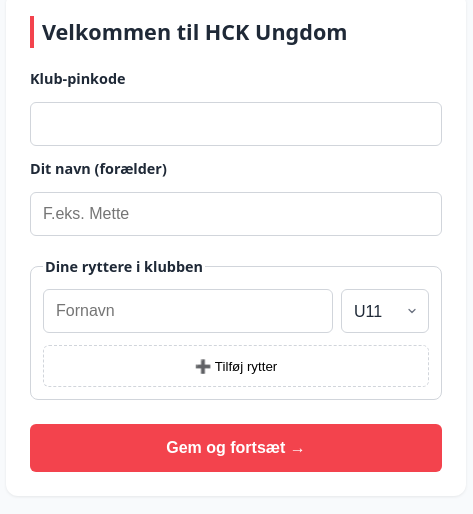
Test: OnboardingForm (Flow 1) › shows an error and saves nothing given no named rider
In the password field labelled "Klub-pinkode": (236,124) [30,102,442,146], type "hck2026"
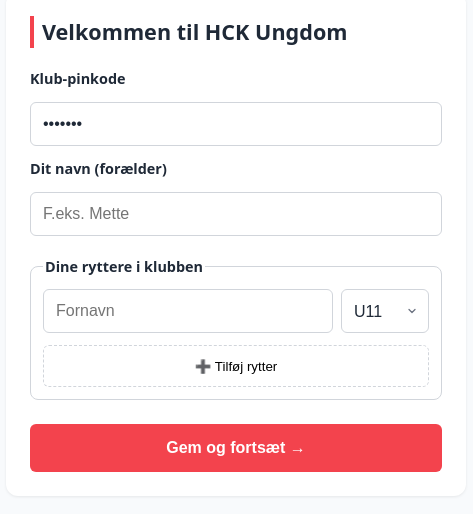
In the field labelled "Dit navn (forælder)": (236,214) [30,192,442,236], type " Mette "
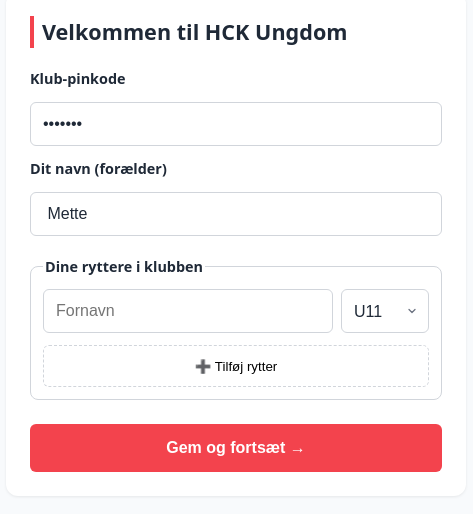
In the field named "Rytter 1 navn": (188,311) [43,289,333,333], type "Sofie"
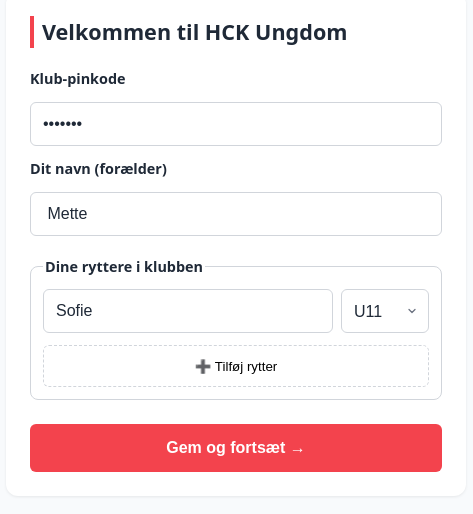
Select "U15" in the dropdown named "Rytter 1 klasse": (385,311) [341,289,429,333]
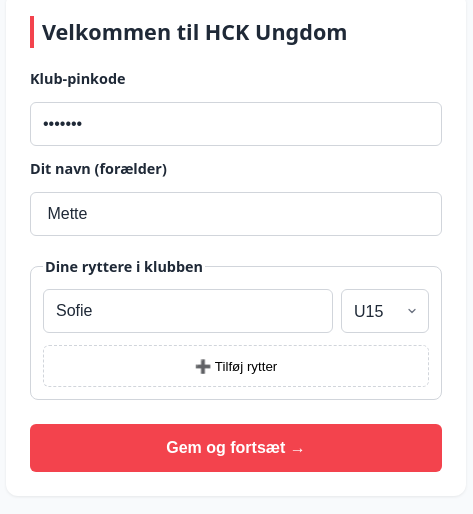
Clear the field named "Rytter 1 navn": (188,311) [43,289,333,333]
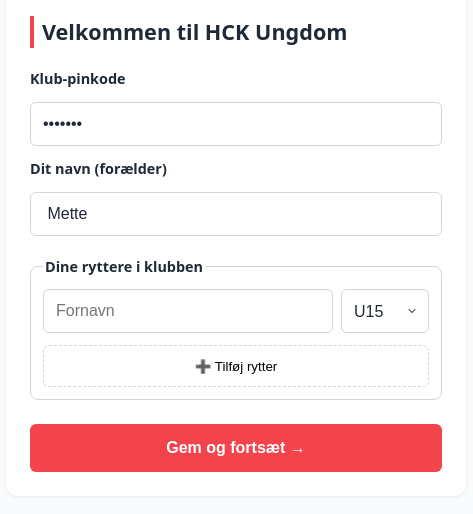
Click the button with test id "save-profile": (236,448) [30,424,442,472]
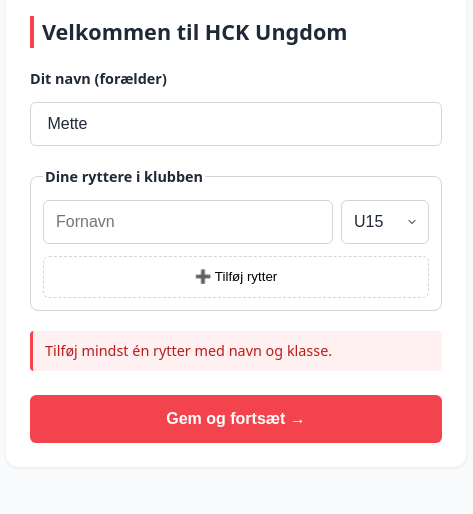
Now the message "Tilføj mindst én rytter med navn og klasse." is shown, box [30,331,442,371]
